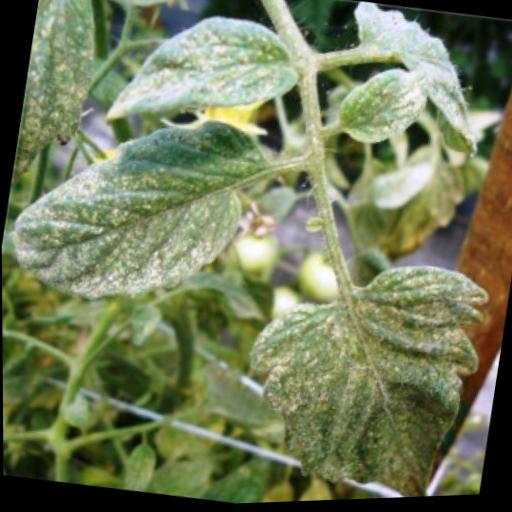Spider Mites: (222, 234, 495, 506), (1, 84, 280, 327), (98, 0, 307, 159), (327, 58, 432, 159)
